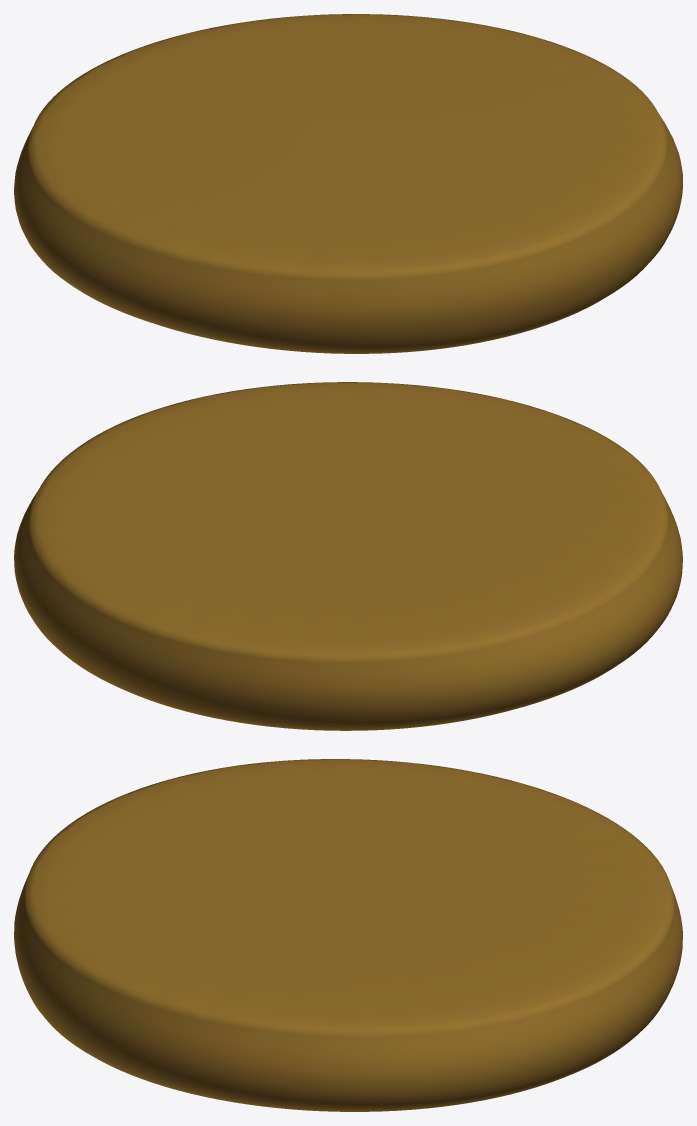
File: bun.fbx
The picture shows the model from 3 angles, top to bottom: view 1: azimuth 30°, elevation 25°; view 2: azimuth 150°, elevation 25°; view 3: azimuth 270°, elevation 25°; orthographic projection.
Parts seen in each view (by area): view 1: Sphere.001; view 2: Sphere.001; view 3: Sphere.001.
Boxes of the visible parts, box(x1,y1,x2,y2) form: Sphere.001: box(14, 14, 682, 353); Sphere.001: box(14, 382, 682, 730); Sphere.001: box(14, 759, 682, 1111).
Size of the model in its own units: 386 by 64.62 by 377.
